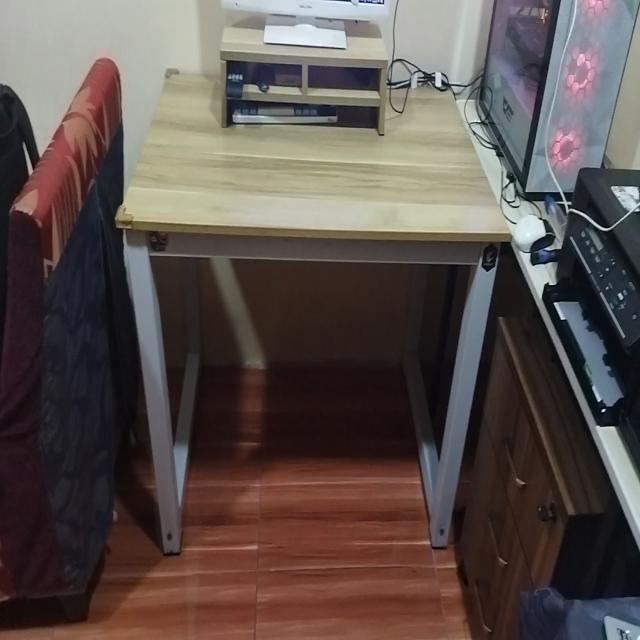table: (117, 61, 498, 554)
